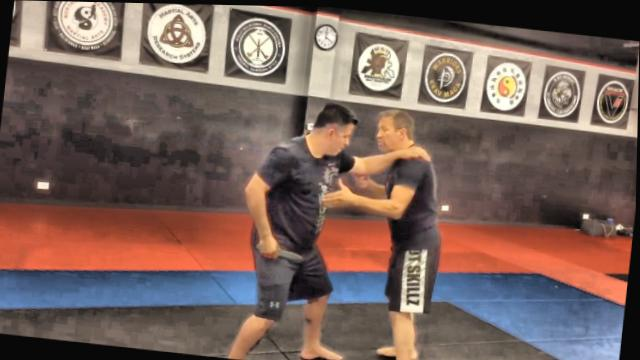knife: (254, 238, 306, 260)
